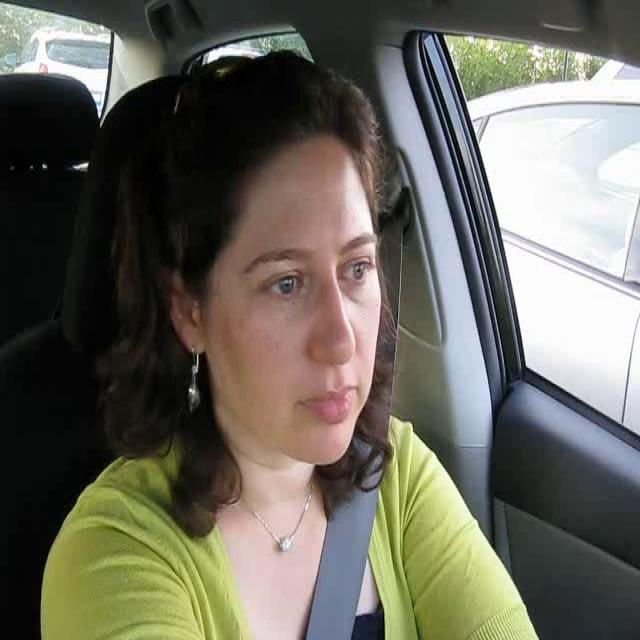close: (296, 379, 361, 425)
